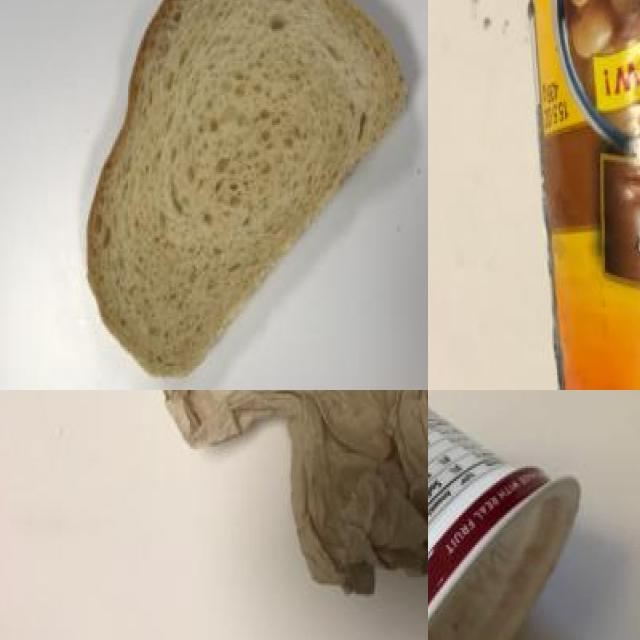compost: (83, 0, 414, 375)
plastic: (505, 0, 640, 390)
trash: (109, 390, 428, 591), (428, 390, 592, 640)
